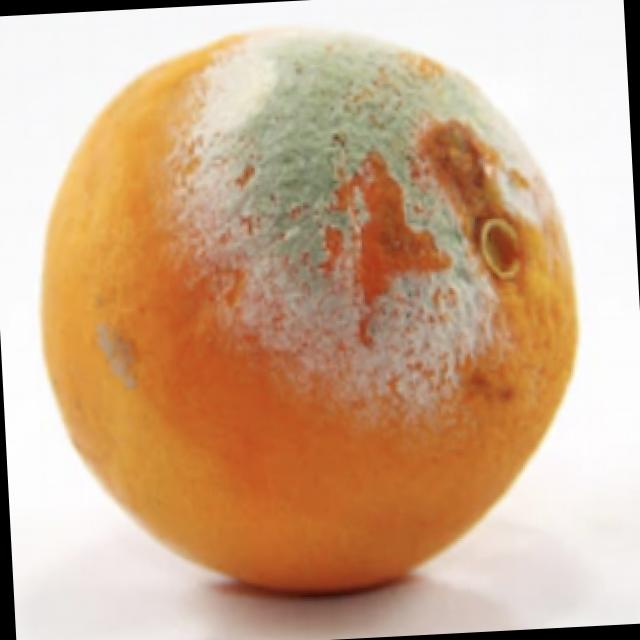rotten-orange: (26, 12, 597, 609)
